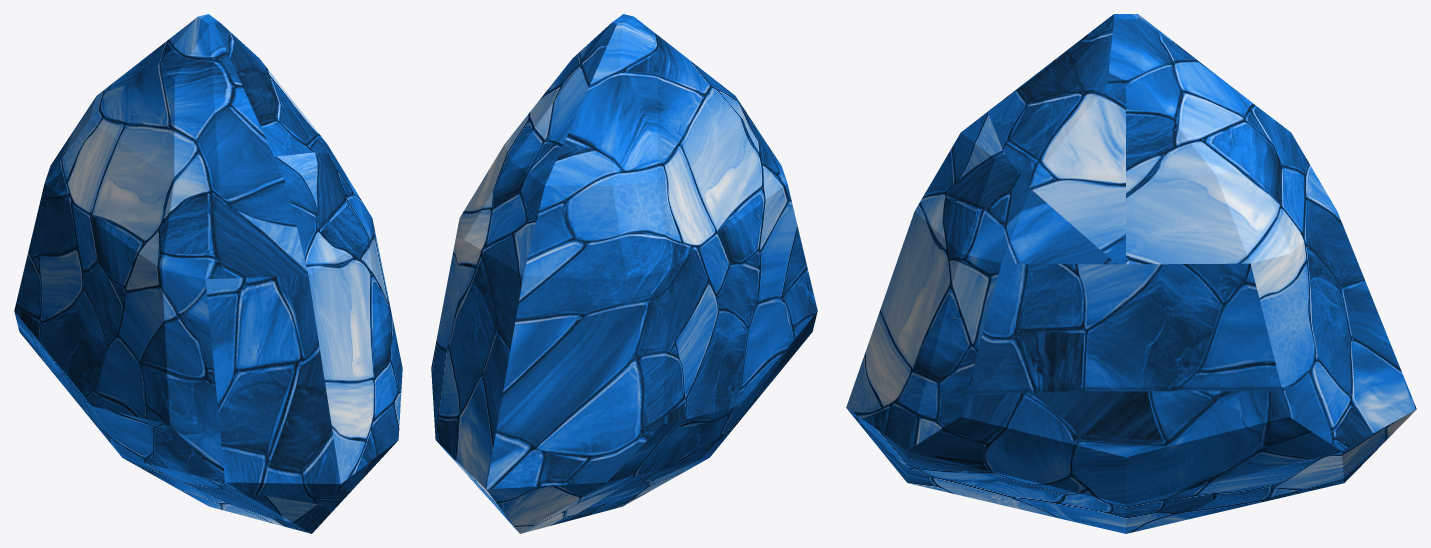
The model's file is gemstone5Blue.glb.
3 views of the same model, side by side, from view 1: azimuth 30°, elevation 25°; view 2: azimuth 150°, elevation 25°; view 3: azimuth 270°, elevation 25° (orthographic). The views are drawn at different scales.
Visible parts, largest first — view 1: gemstone4; view 2: gemstone4; view 3: gemstone4.
Boxes of the visible parts, x1=… form: gemstone4: x1=14, y1=14, x2=402, y2=533; gemstone4: x1=431, y1=14, x2=817, y2=533; gemstone4: x1=846, y1=14, x2=1416, y2=533.
Bounding box in the file's own units: 0.5 × 1 × 1.
Materials: 1 (1 with a texture image).
